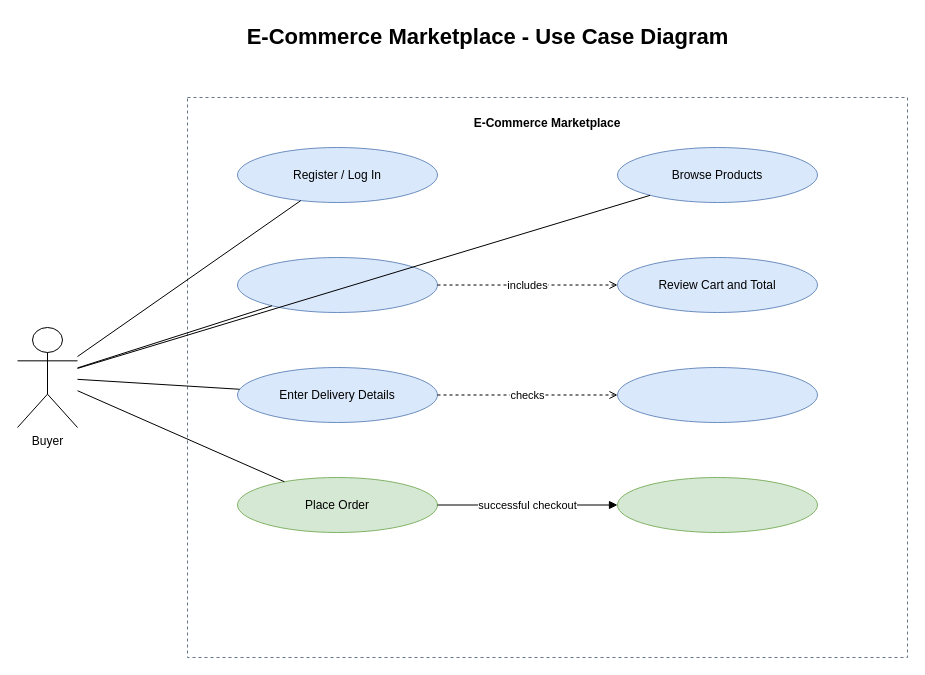
This 925x675 diagram has some shape labels left out. Each missing label, with the centre of its shape:
Manage Shopping Cart: [337,284]
Validate Product Stock: [717,394]
View Order Confirmation: [717,504]
